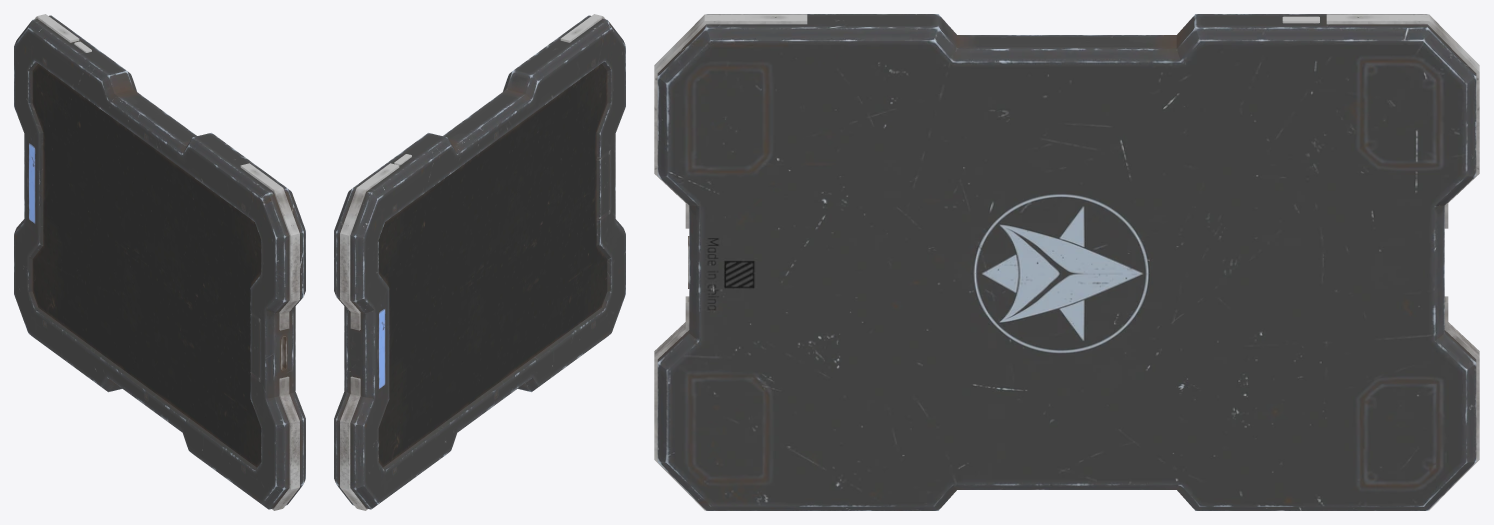
The model's file is wall_display.glb.
The picture shows the model from 3 angles, left to right: view 1: azimuth 30°, elevation 25°; view 2: azimuth 150°, elevation 25°; view 3: azimuth 270°, elevation 25°; orthographic projection. The views are drawn at different scales.
Parts seen in each view (by area): view 1: LP1, LP2; view 2: LP1, LP2; view 3: LP1, LP2.
Part boxes in pixels (x1,y1,x2,y2): LP1: (14, 15, 305, 509); LP2: (34, 14, 299, 510); LP1: (334, 15, 625, 509); LP2: (340, 14, 605, 510); LP1: (657, 14, 1476, 510); LP2: (654, 14, 1479, 510).
Bounding box in the file's own units: 0.0178 × 0.1814 × 0.2773.
1 material, 1 textured.
